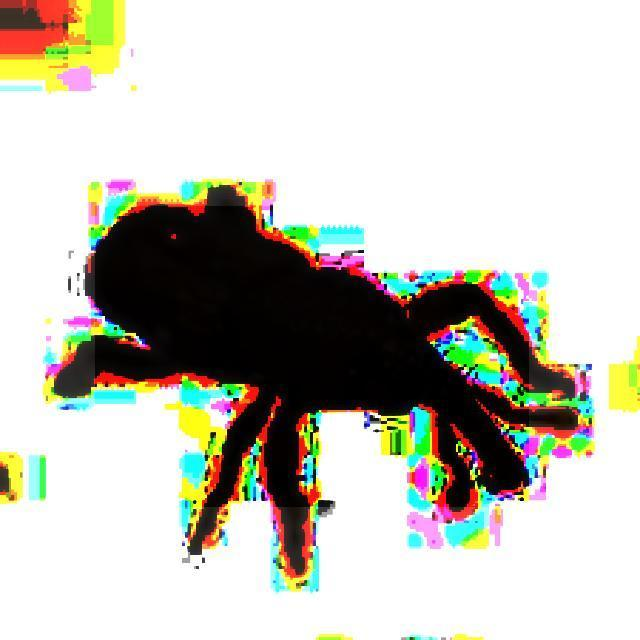rice-bug: (95, 206, 529, 507)
